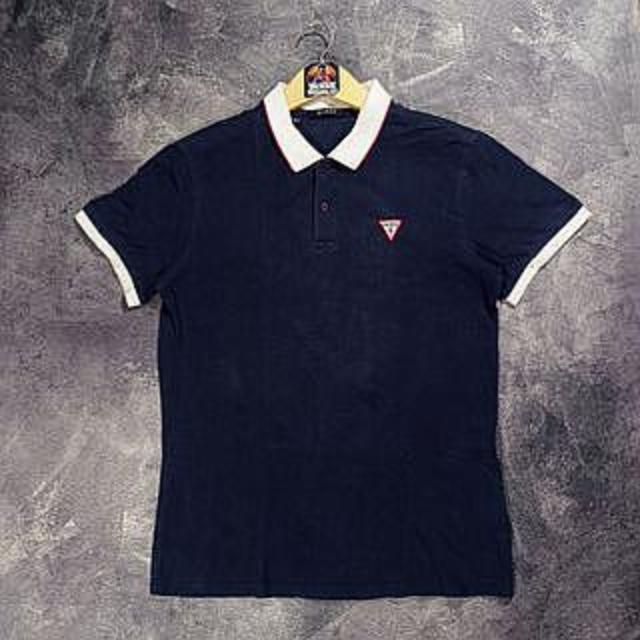T_SHIRT: (51, 66, 606, 613)
